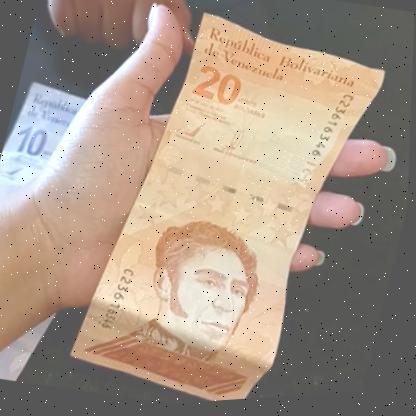twenty-front-vef: (63, 0, 392, 412)
